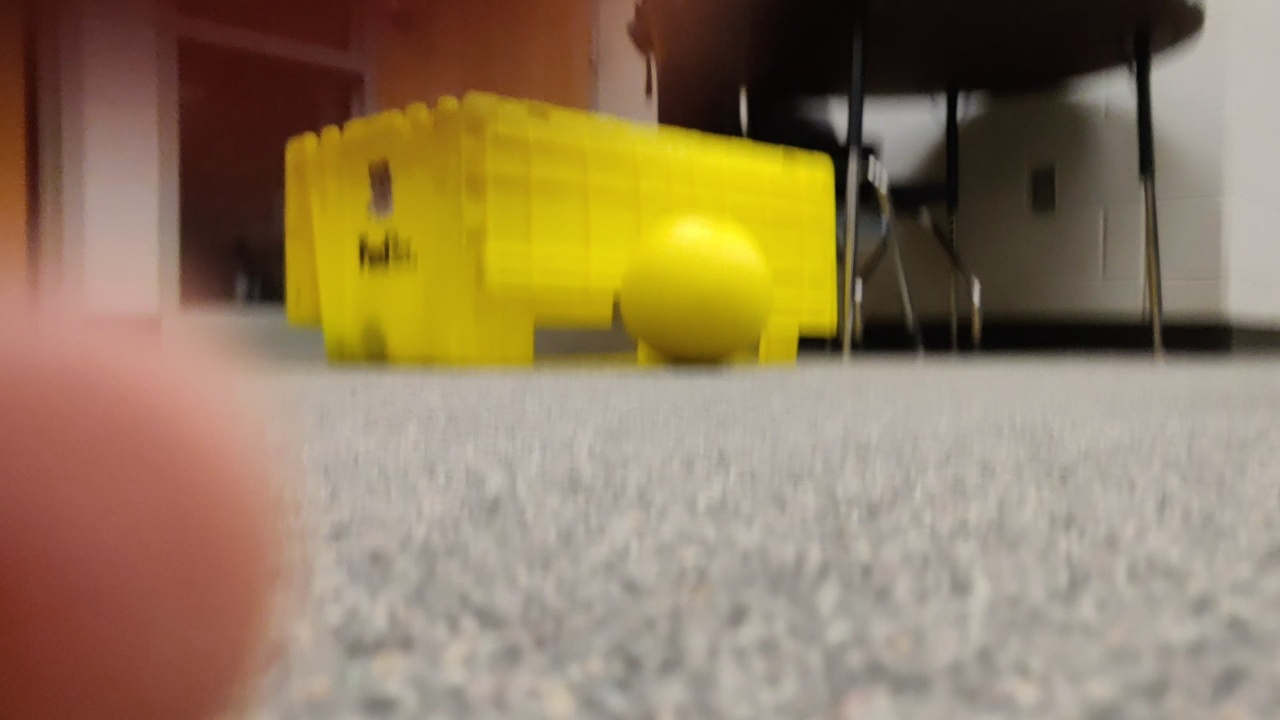Ball: (618, 219, 773, 362)
